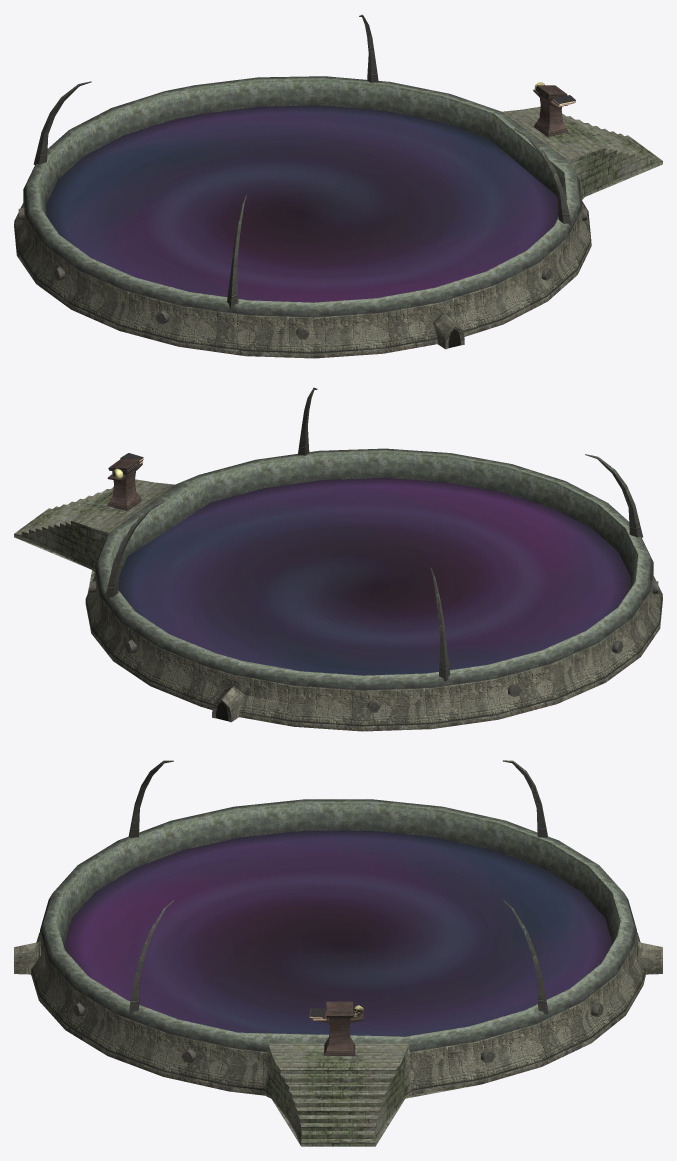
File: Well_lod.fbx
The picture shows the model from 3 angles, top to bottom: view 1: azimuth 30°, elevation 25°; view 2: azimuth 150°, elevation 25°; view 3: azimuth 270°, elevation 25°; orthographic projection. The views are drawn at different scales.
Visible parts, largest first — view 1: Mesh Object; view 2: Mesh Object; view 3: Mesh Object.
Boxes of the visible parts, x1,y1,x2,y2 form: Mesh Object: (14,14,662,358); Mesh Object: (14,387,662,731); Mesh Object: (14,760,662,1146).
Bounding box in the file's own units: 14.66 × 3.1 × 13.08.
